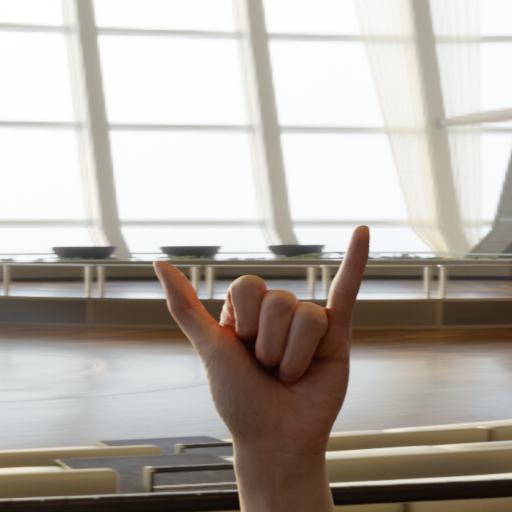Y: (145, 220, 390, 457)
